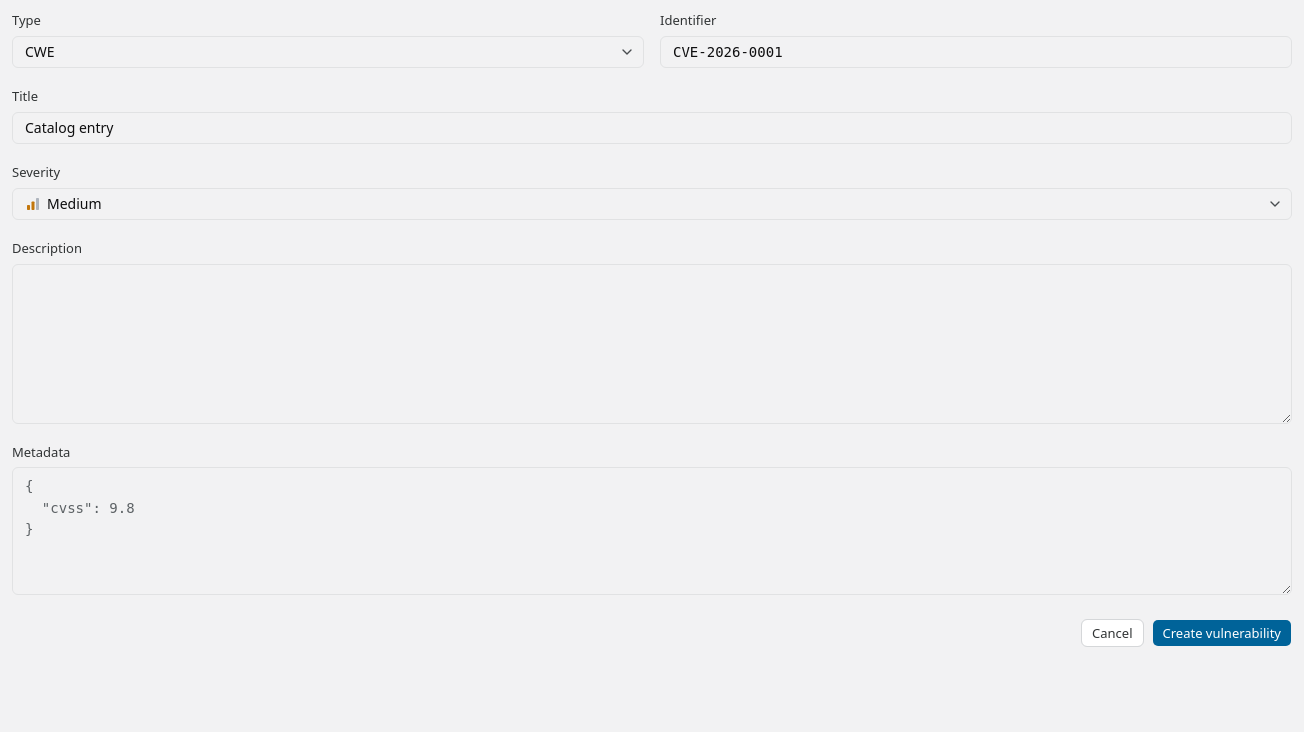
Test: VulnerabilityForm › validates cwe identifiers using the shared catalog contract
Step 1. Click the button "Create vulnerability" → (1222, 633), box [1152,619,1292,647]
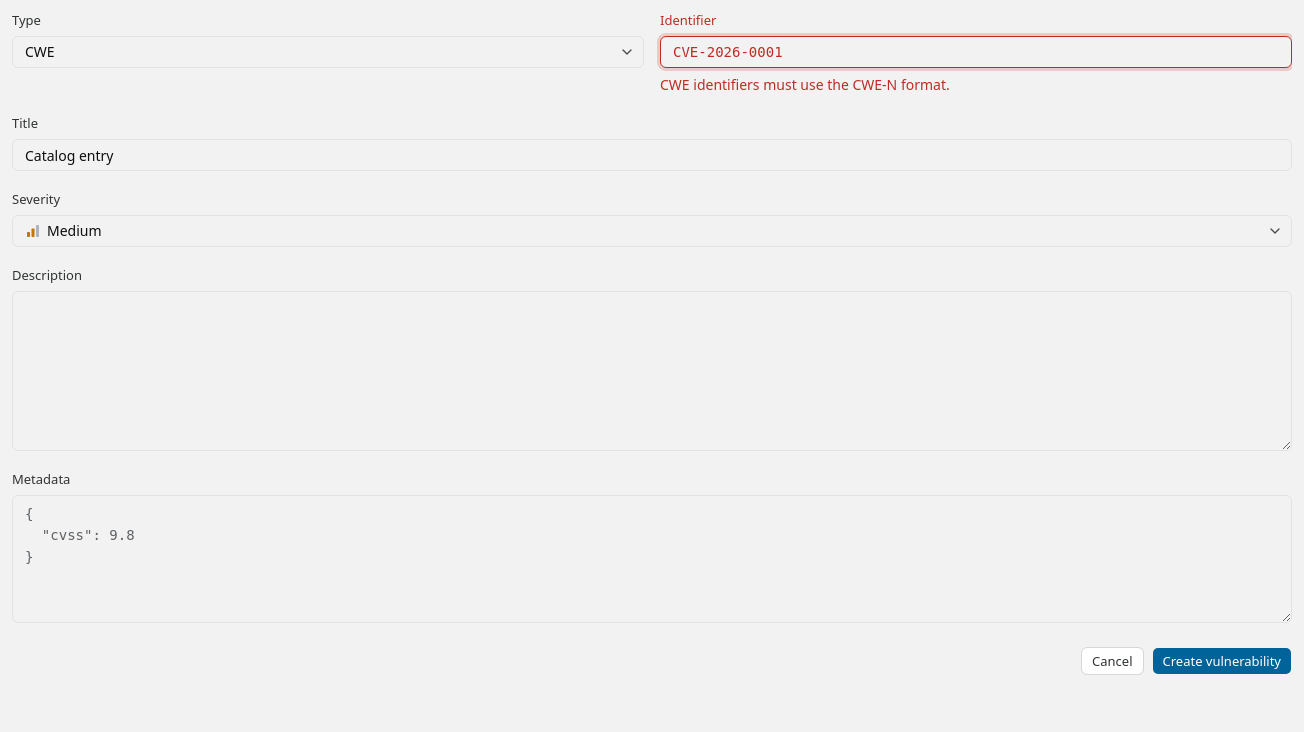
expect the text "CWE identifiers must use the CWE-N format." is shown: met, box [660,75,950,94]
